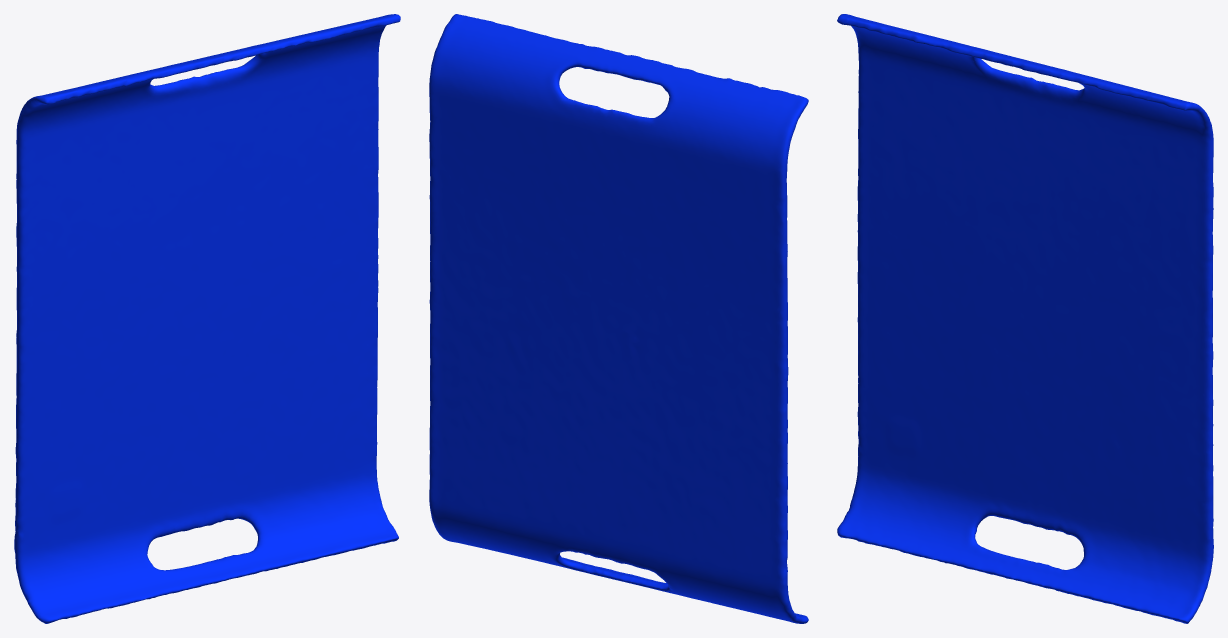
The picture shows the model from 3 angles, left to right: view 1: azimuth 30°, elevation 25°; view 2: azimuth 150°, elevation 25°; view 3: azimuth 330°, elevation 25°; orthographic projection.
Bounding box in the file's own units: 0.7137 × 1 × 0.1044.
